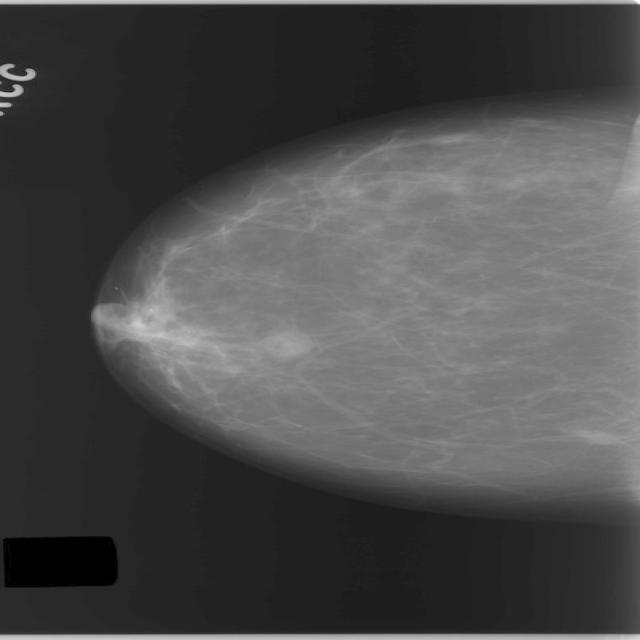tumour: (260, 328, 315, 359)
